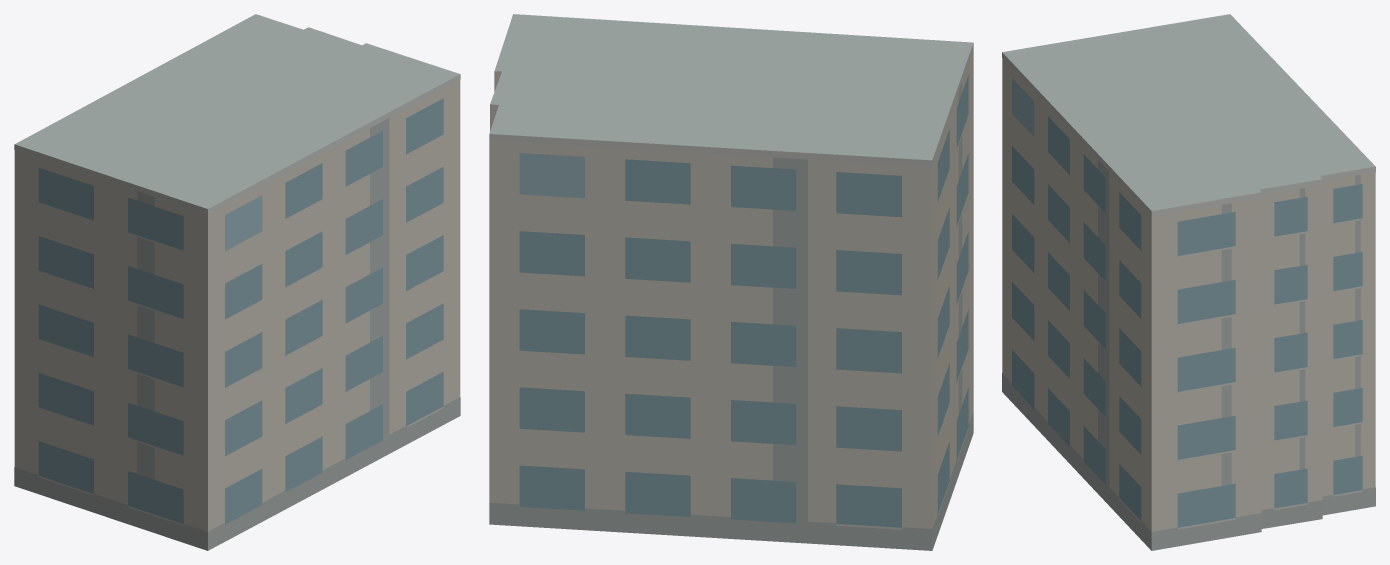
The model's file is survey-upis-32585414.glb.
3 views of the same model, side by side, from view 1: azimuth 30°, elevation 25°; view 2: azimuth 150°, elevation 25°; view 3: azimuth 270°, elevation 25° (orthographic). The views are drawn at different scales.
Visible parts, largest first — view 1: survey-upis-32585414.tmp; view 2: survey-upis-32585414.tmp; view 3: survey-upis-32585414.tmp.
Part boxes in pixels (x1,y1,x2,y2): survey-upis-32585414.tmp: (14, 14, 460, 550); survey-upis-32585414.tmp: (489, 14, 973, 550); survey-upis-32585414.tmp: (1002, 14, 1375, 550).
Size of the model in its own units: 18.17 by 14.6 by 14.56.
